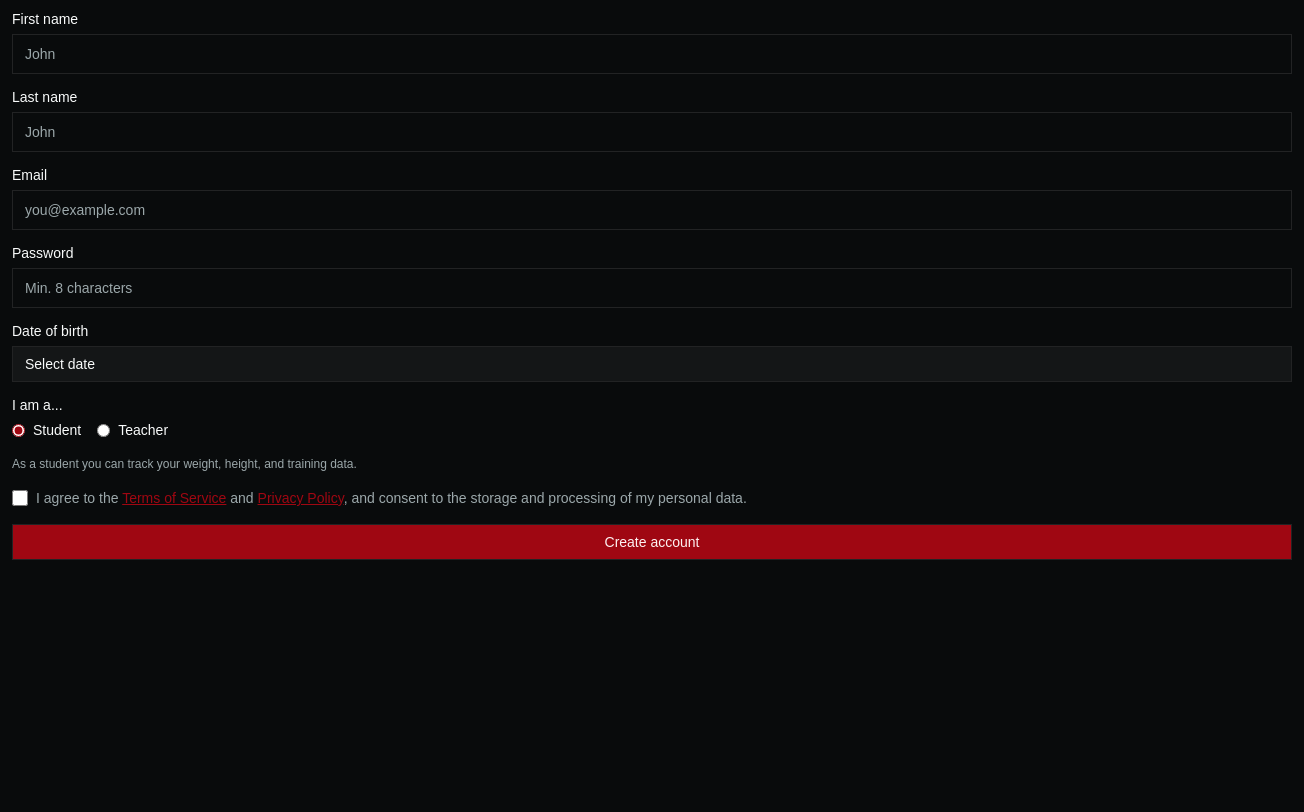
it: RegisterForm — profile_type selector › shows teacher description when teacher radio is selected
This screenshot has width=1304, height=812.
Click the radio button labelled "Teacher": (104, 430) x1=97 y1=424 x2=110 y2=436
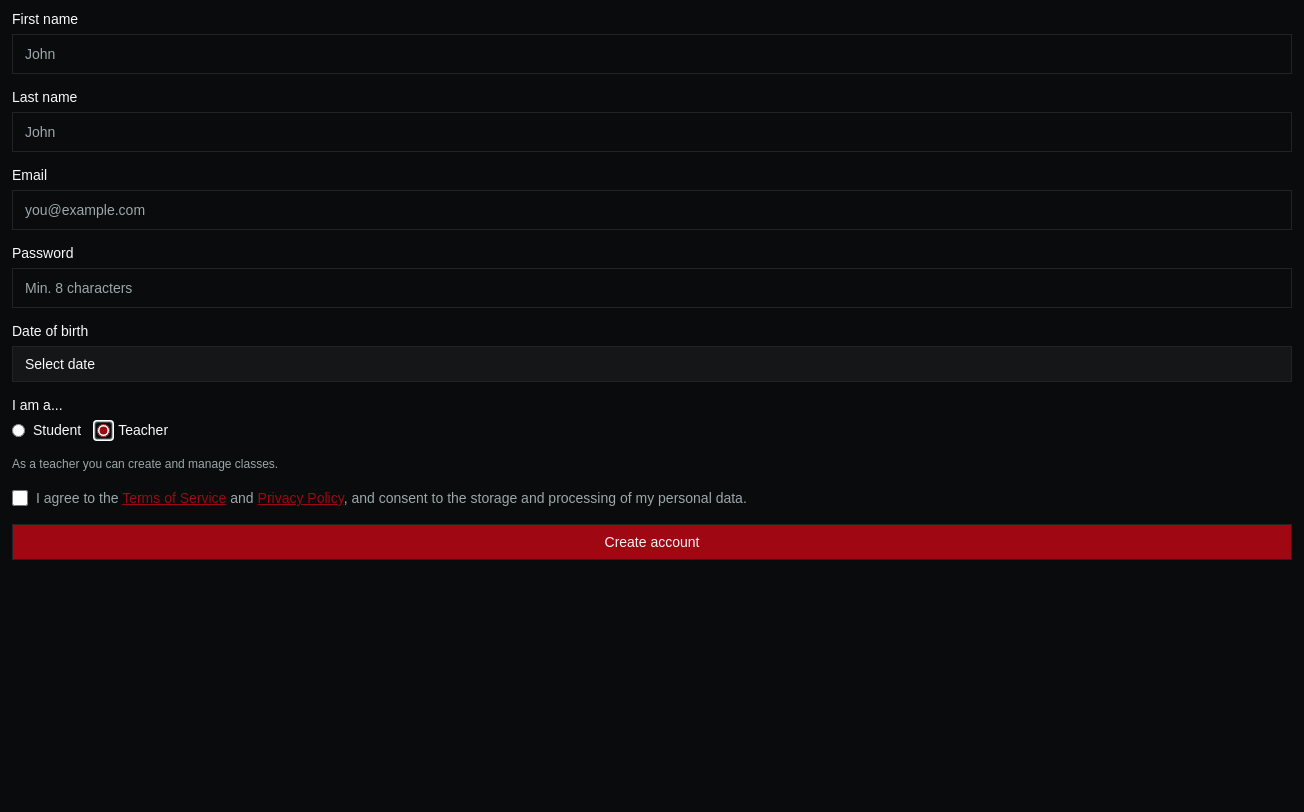
Check: the text "As a teacher you can create and manage classes." is shown, box x1=12 y1=457 x2=278 y2=471
